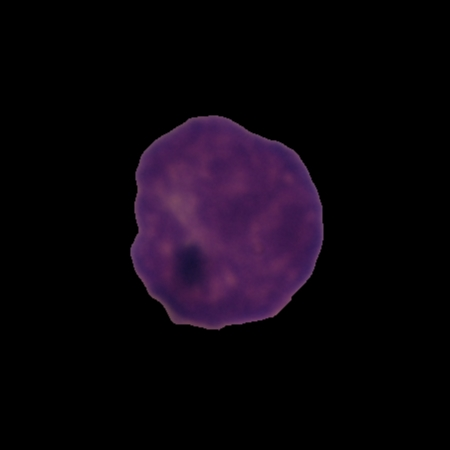HEM: (127, 111, 327, 333)
